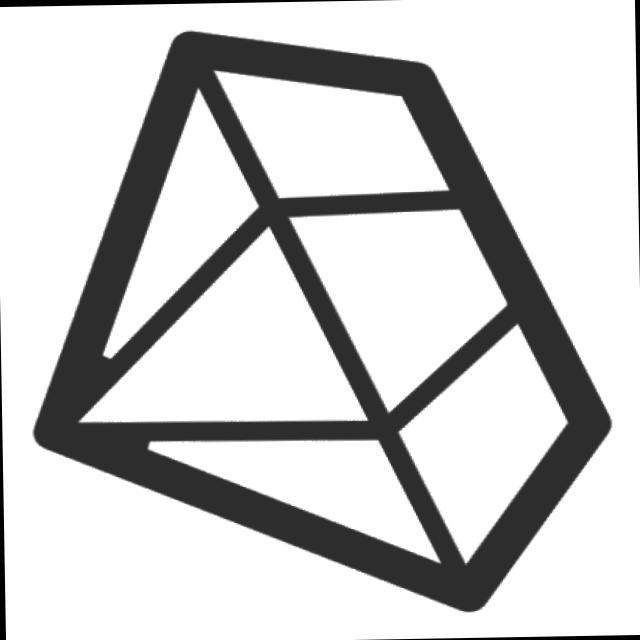diamond: (13, 15, 630, 632)
